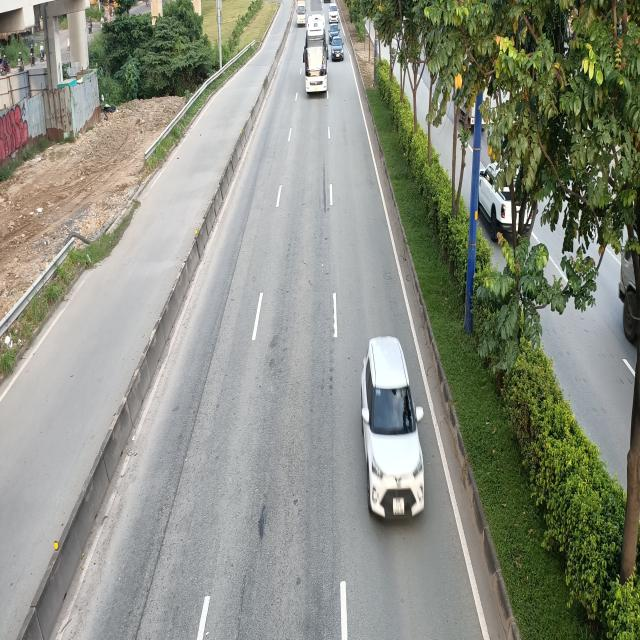car: (359, 336, 425, 521)
coach: (302, 18, 328, 92)
